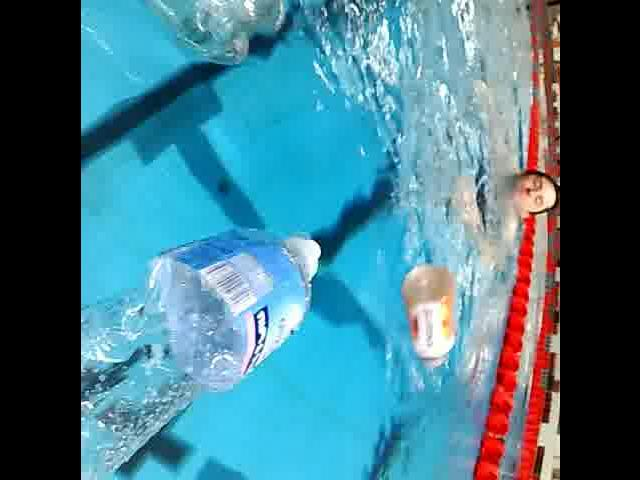Bottle: (80, 222, 326, 480), (80, 0, 295, 72), (395, 256, 463, 376)
